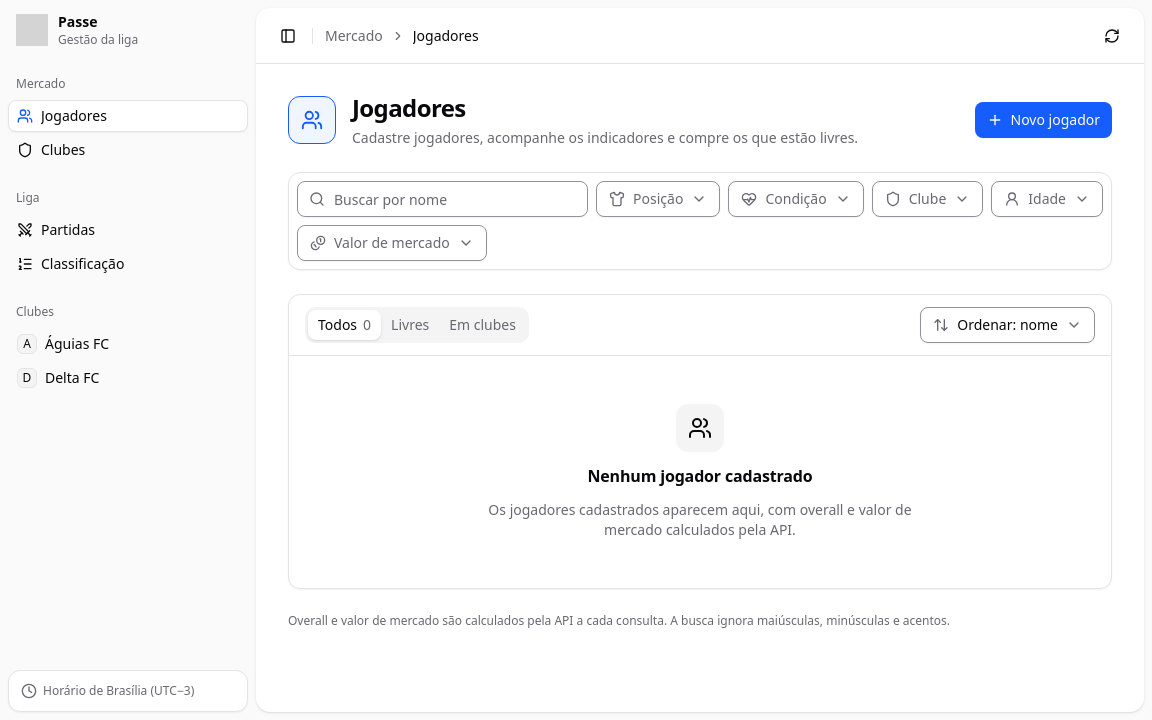
it: AppLayout › navega pelo menu e mostra o nome do clube na trilha
The width and height of the screenshot is (1152, 720).
Click the link "D Delta FC": (58, 378) [17,368,99,388]
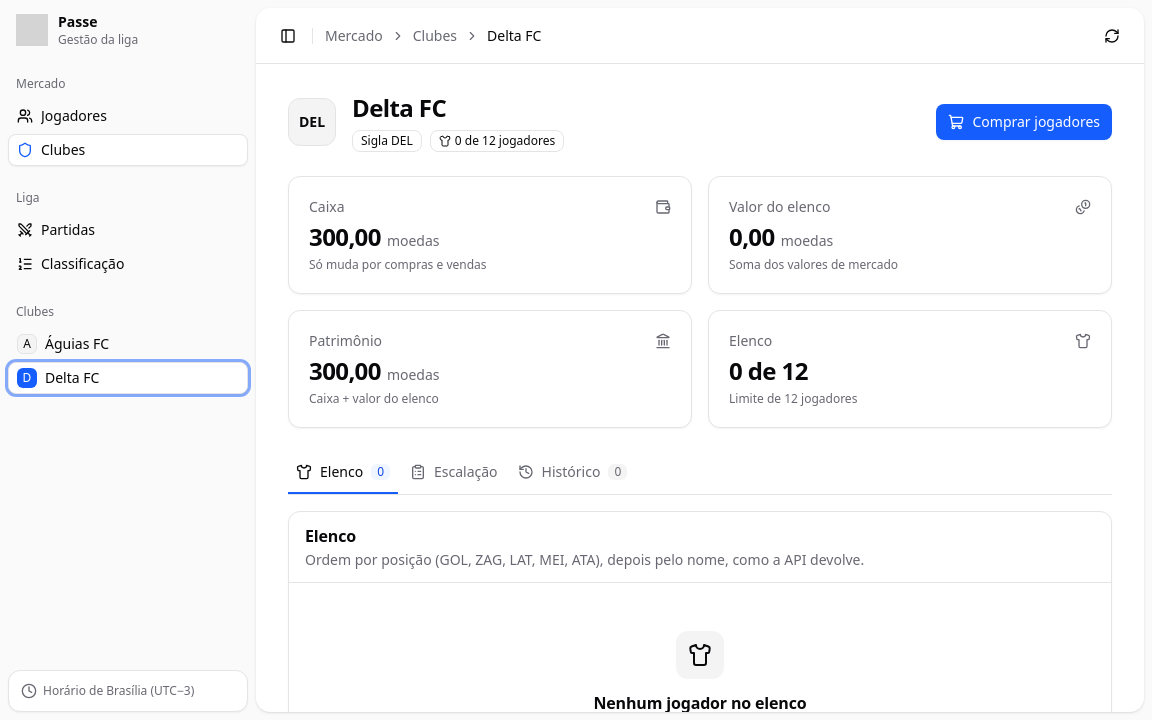
Now the link "D Delta FC" is marked as current, box [8,362,248,394]
Click the link "Classificação": (71, 264) [17,254,124,273]
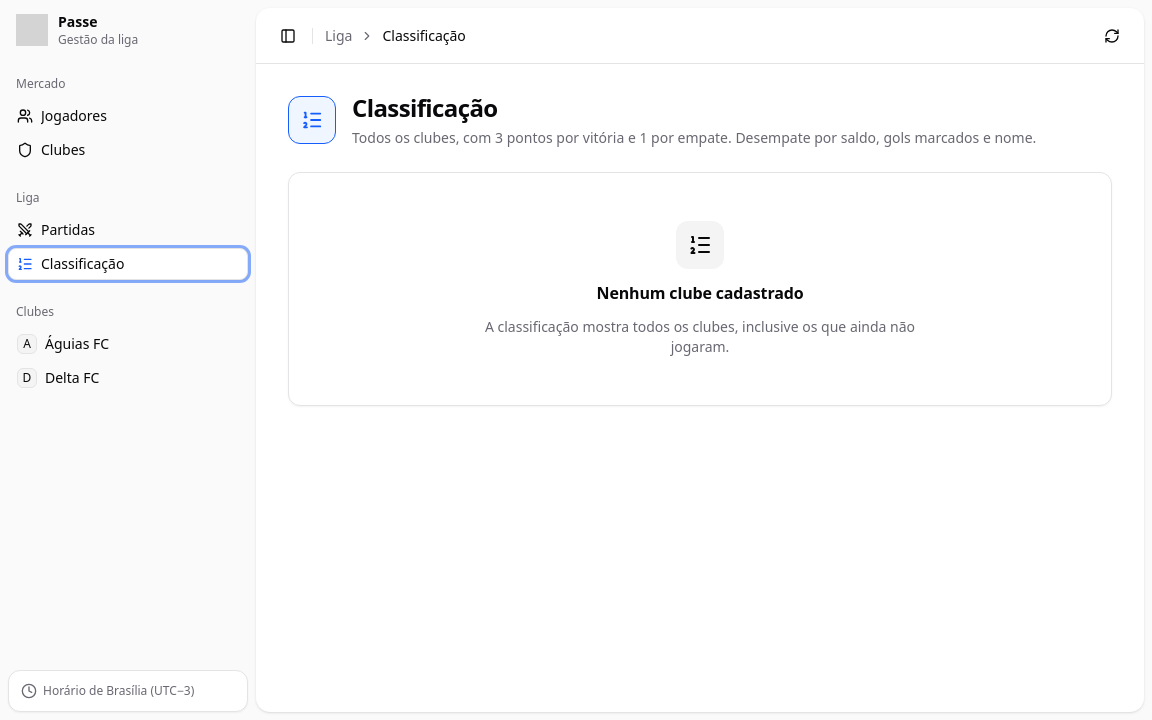
Now the heading "Classificação" is shown, box [352,91,498,124]
Now the text "Liga" is shown, box [325,26,352,46]
